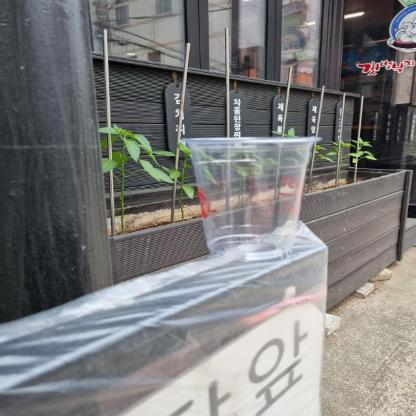Plastic Cup: (178, 136, 322, 260)
